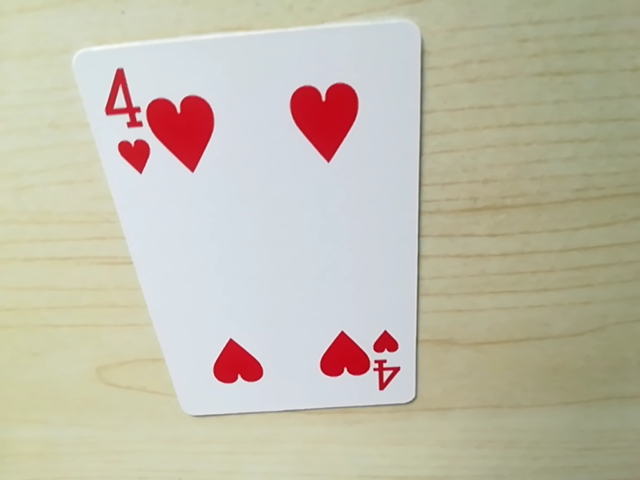hx 4: (97, 54, 153, 179), (364, 332, 406, 397)
